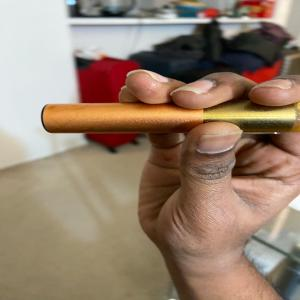Golden-E-Ciggirate: (33, 98, 300, 138)
